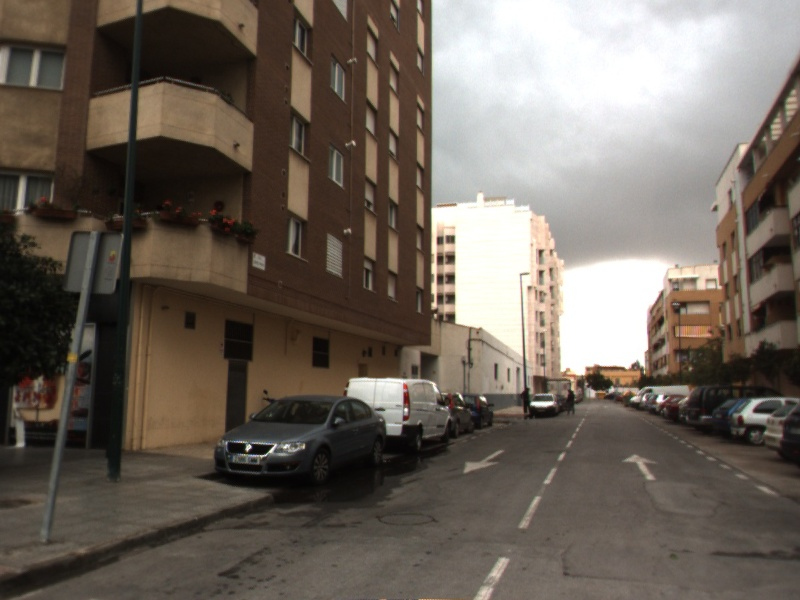STRAIGHT: (621, 452, 662, 482)
